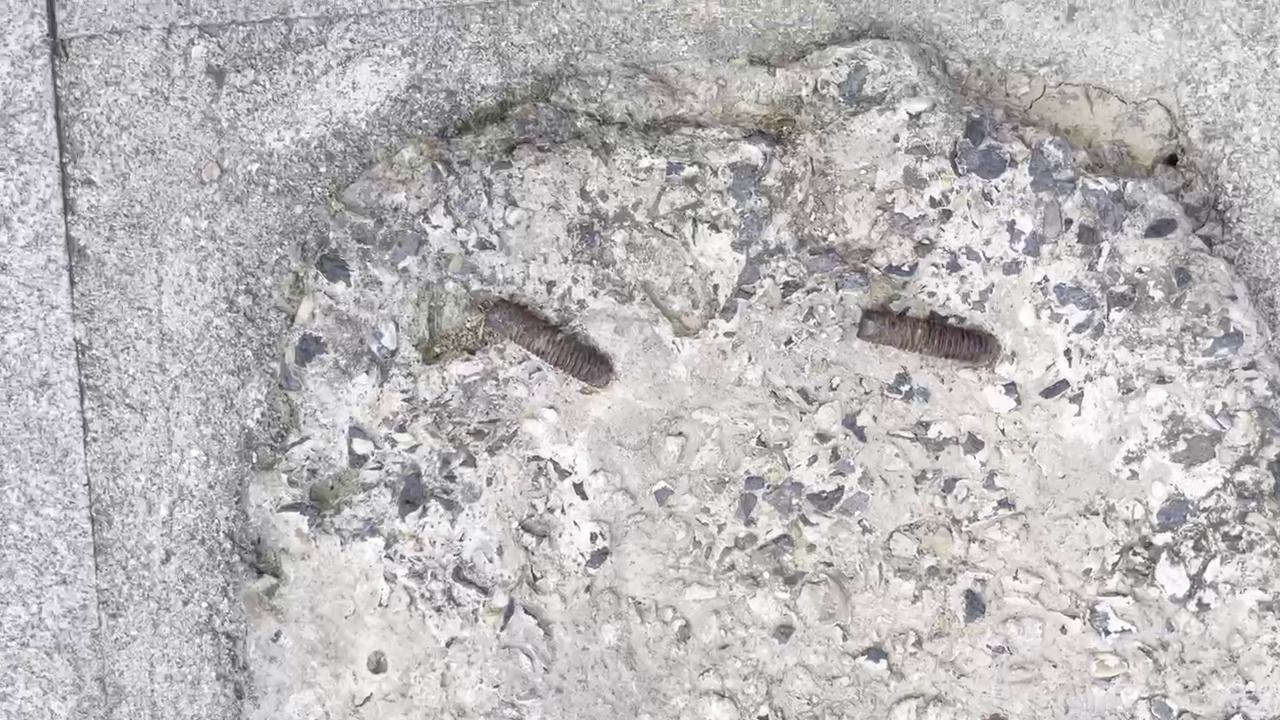Crack: (1023, 81, 1178, 133)
Exposed reinforcement: (485, 298, 614, 388), (855, 307, 1002, 363)
Spalling: (228, 32, 1280, 720)
